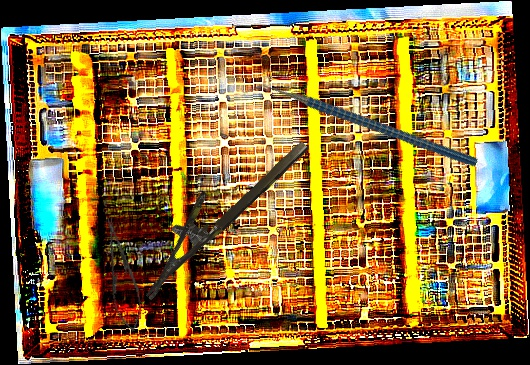Chopper: (240, 16, 480, 236)
Needle Holder: (120, 118, 312, 301), (96, 214, 148, 335)
